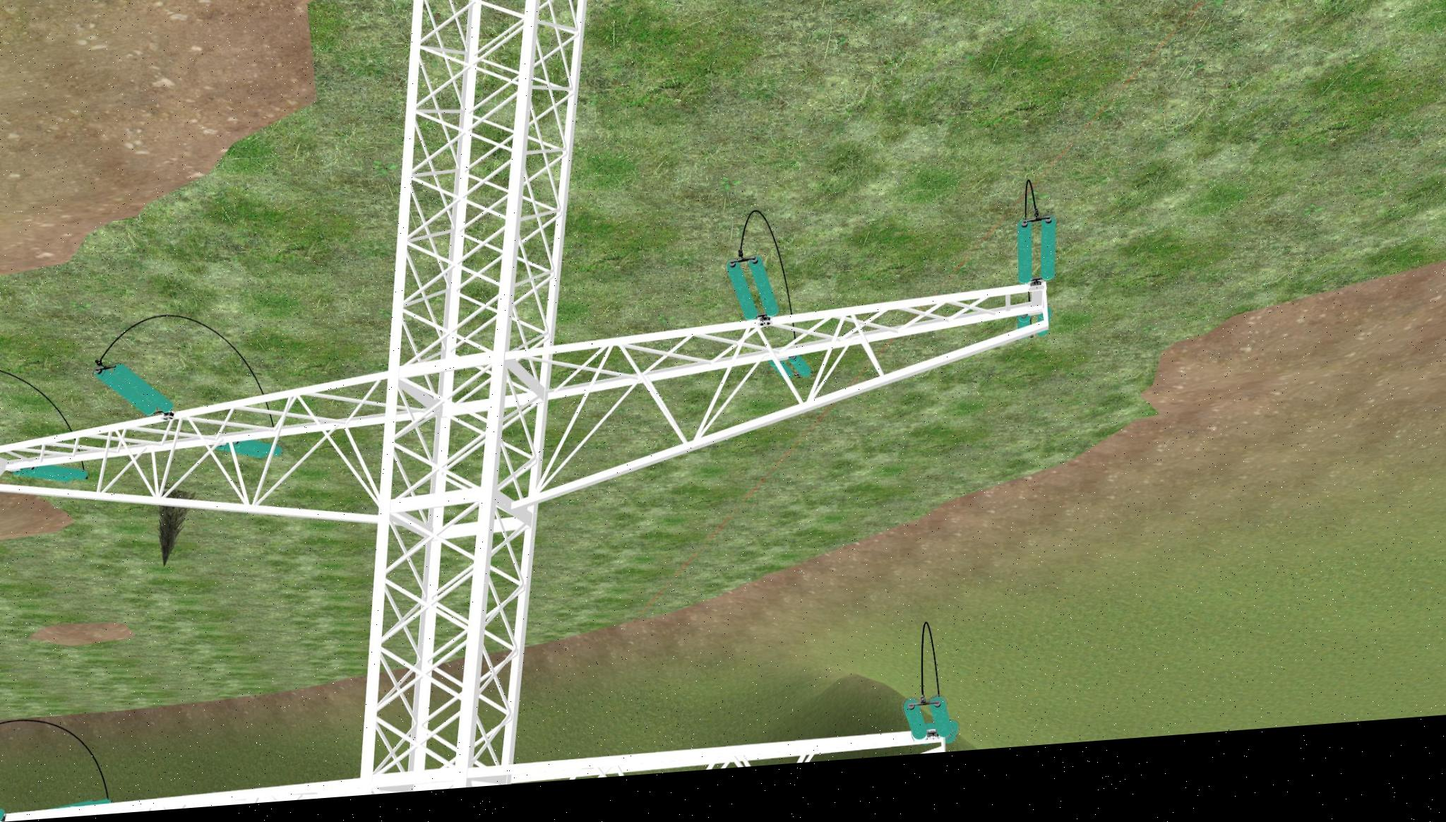tower: (0, 0, 1047, 822)
